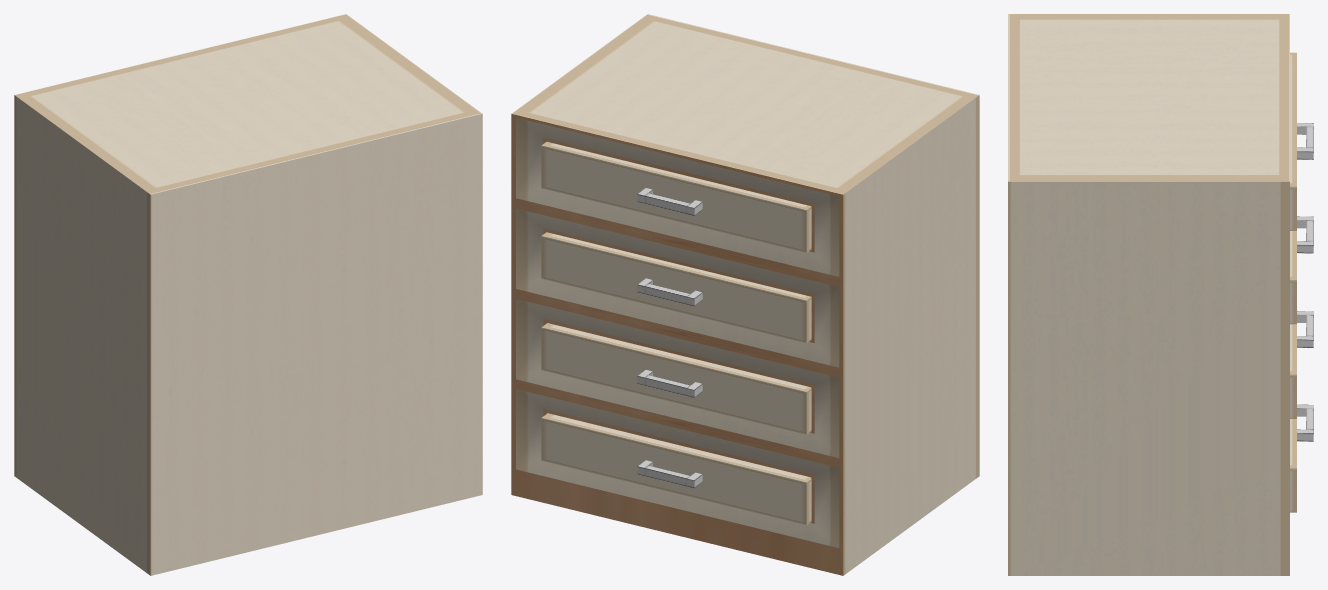
The model's file is Countertop_Kitchen_Drawers_Sealed.fbx.
3 views of the same model, side by side, from view 1: azimuth 30°, elevation 25°; view 2: azimuth 150°, elevation 25°; view 3: azimuth 270°, elevation 25° (orthographic). The views are drawn at different scales.
Visible parts, largest first — view 1: Kitchen_Counter_Drawers; view 2: Kitchen_Counter_Drawers; view 3: Kitchen_Counter_Drawers.
Boxes of the visible parts, x1=… form: Kitchen_Counter_Drawers: x1=14, y1=14, x2=482, y2=575; Kitchen_Counter_Drawers: x1=511, y1=14, x2=979, y2=575; Kitchen_Counter_Drawers: x1=1008, y1=14, x2=1313, y2=575.
Size of the model in its own units: 80.81 by 88.69 by 62.32.
